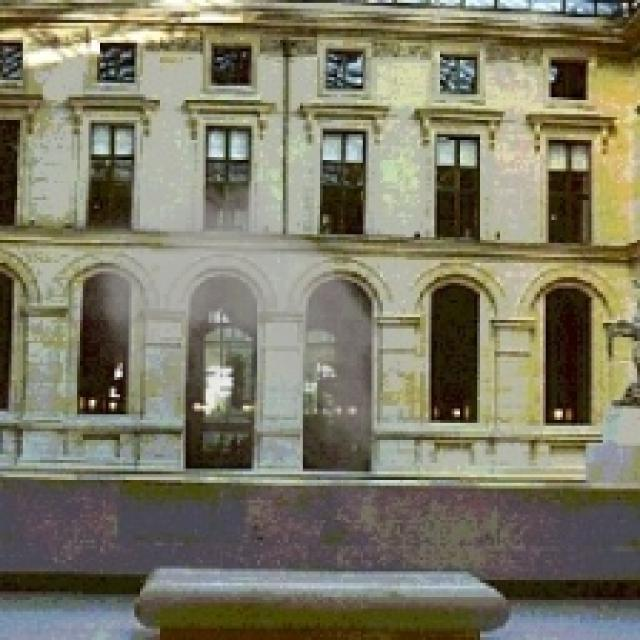Smoke: (57, 151, 440, 543)
